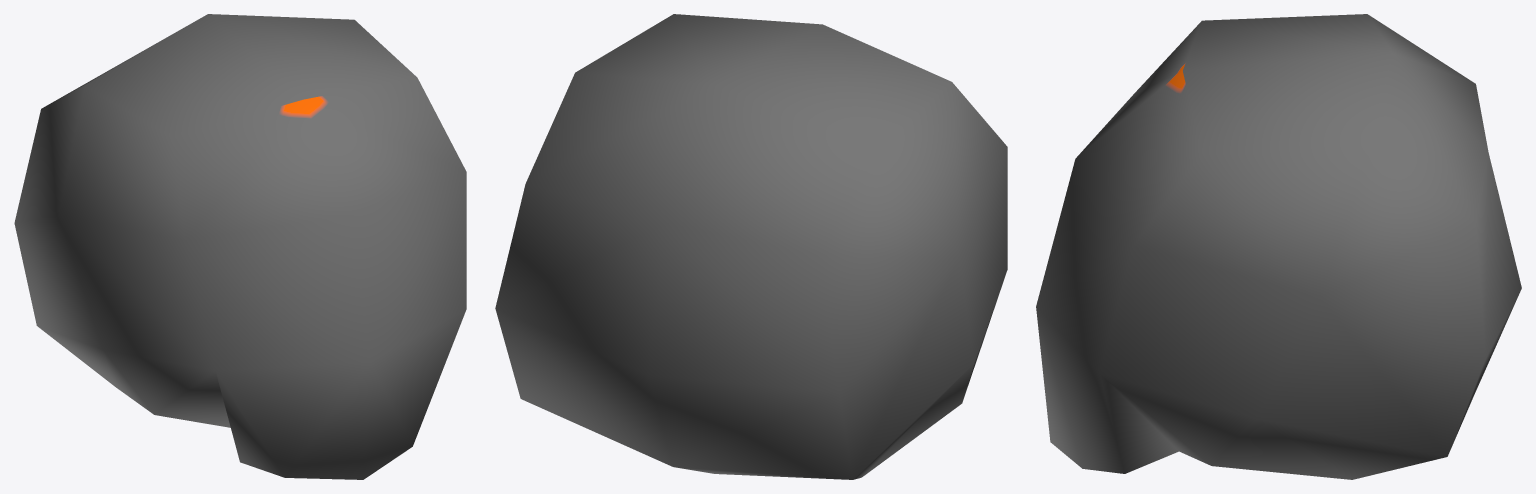
File: SM_Gen_Prop_Skull_01.glb
3 views of the same model, side by side, from view 1: azimuth 30°, elevation 25°; view 2: azimuth 150°, elevation 25°; view 3: azimuth 270°, elevation 25° (orthographic). The views are drawn at different scales.
Visible parts, largest first — view 1: SM_Gen_Prop_Skull_01; view 2: SM_Gen_Prop_Skull_01; view 3: SM_Gen_Prop_Skull_01.
Boxes of the visible parts, x1=… form: SM_Gen_Prop_Skull_01: x1=14, y1=14, x2=466, y2=479; SM_Gen_Prop_Skull_01: x1=495, y1=14, x2=1007, y2=479; SM_Gen_Prop_Skull_01: x1=1036, y1=14, x2=1521, y2=479.
Bounding box in the file's own units: 0.2767 × 0.255 × 0.2889.
1 material, 1 textured.
